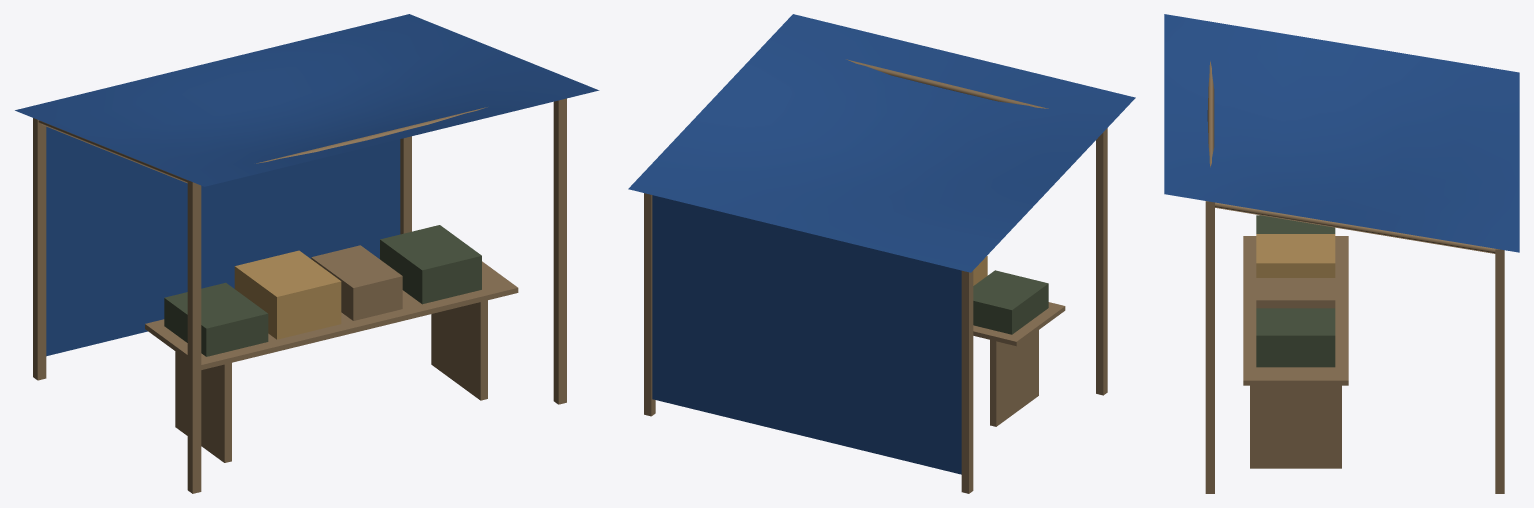
The model's file is SM_stall3.glb.
3 views of the same model, side by side, from view 1: azimuth 30°, elevation 25°; view 2: azimuth 150°, elevation 25°; view 3: azimuth 270°, elevation 25° (orthographic). The views are drawn at different scales.
Visible parts, largest first — view 1: SM_stall3; view 2: SM_stall3; view 3: SM_stall3.
Boxes of the visible parts, box(x1,y1,x2,y2) form: SM_stall3: box(15, 14, 599, 493); SM_stall3: box(628, 14, 1135, 493); SM_stall3: box(1164, 14, 1519, 493).
Bounding box in the file's own units: 3.24 × 2.55 × 2.7.
